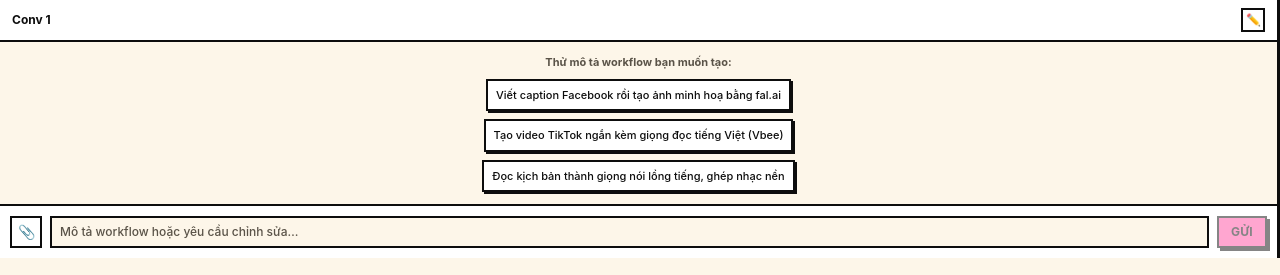
Test: ChatPane — empty states › active conversation with 0 messages: shows 3 suggestion chips; clicking one fills the composer without sending
This screenshot has width=1280, height=275.
Click the 1st button with test id "chat-suggestion-chip" at {"x": 638, "y": 95}, box [486,78,791,111]
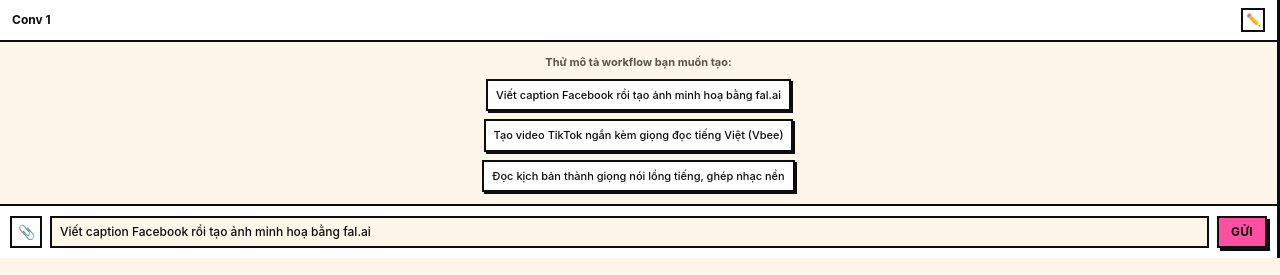
Now the text box with test id "chat-input" holds "Viết caption Facebook rồi tạo ảnh minh hoạ bằng fal.ai", box [50,216,1209,248]
